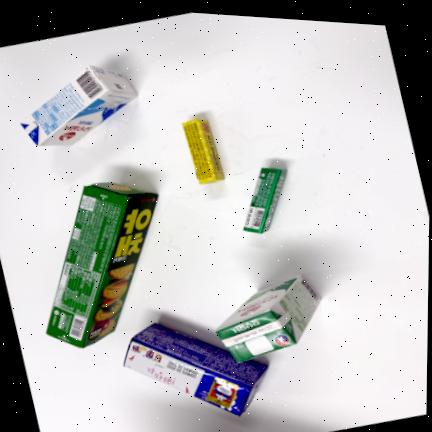cracker_ace: (123, 323, 267, 415)
cracker_vege: (46, 182, 158, 347)
gum_green: (243, 165, 289, 234)
gum_yellow: (182, 119, 224, 183)
milk_blue: (21, 65, 137, 146)
milk_green: (213, 274, 325, 363)
